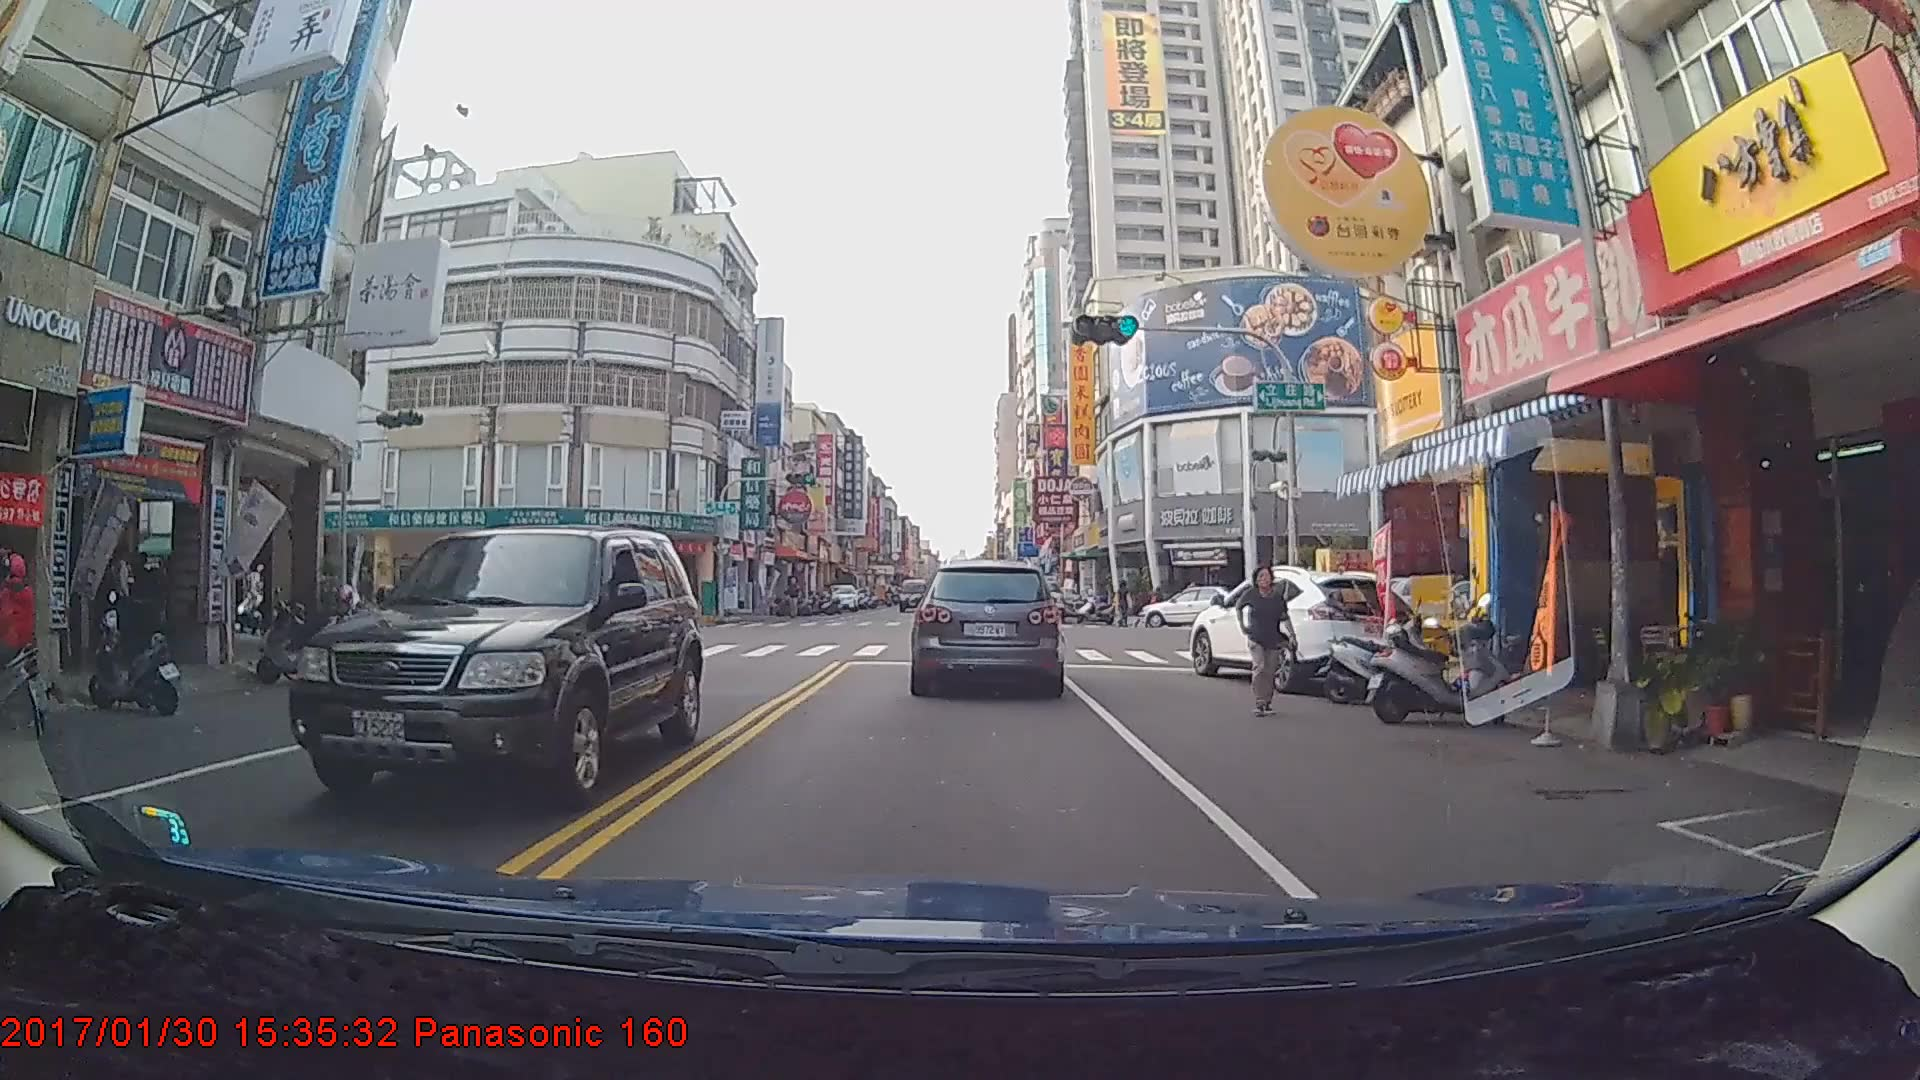pedestrian: (1241, 563, 1302, 723)
rider: (0, 552, 50, 747)
vehicle: (283, 522, 702, 809), (1188, 561, 1423, 691), (911, 559, 1062, 695), (1134, 582, 1258, 625), (822, 582, 860, 611), (896, 579, 929, 612)
